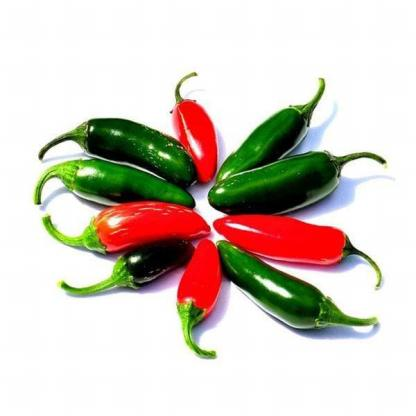--: (211, 212, 397, 284), (206, 151, 398, 213), (35, 195, 214, 246), (167, 64, 225, 192)
